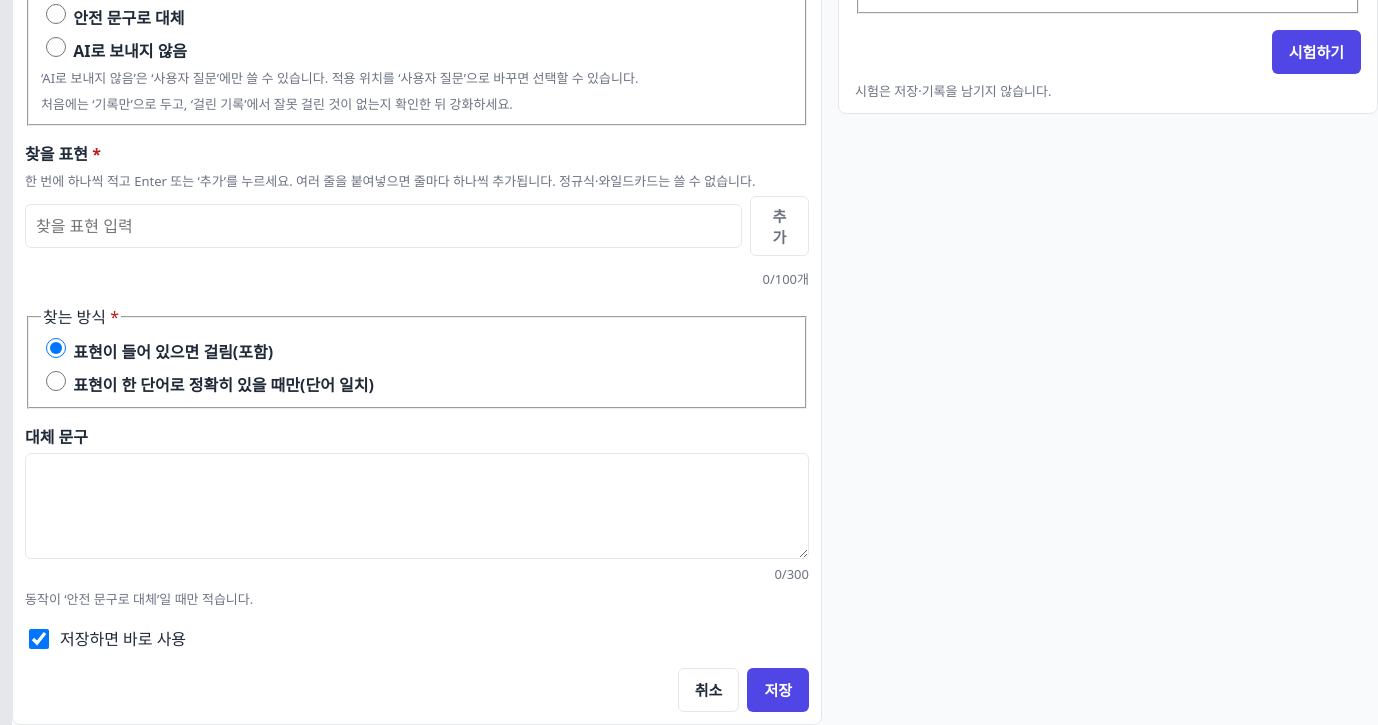
Test: 안전 가드레일 화면 — axe 접근성 스캔 › GR-2 규칙 폼(오류가 표시된 상태)에 구조적 접근성 위반이 없다
The image size is (1378, 725).
(page scrolled)
What coordinates should you click on to do the following:
click the button "저장"
I would click on:
 (778, 690)
Its box is [747,668,809,712].
(page scrolled)
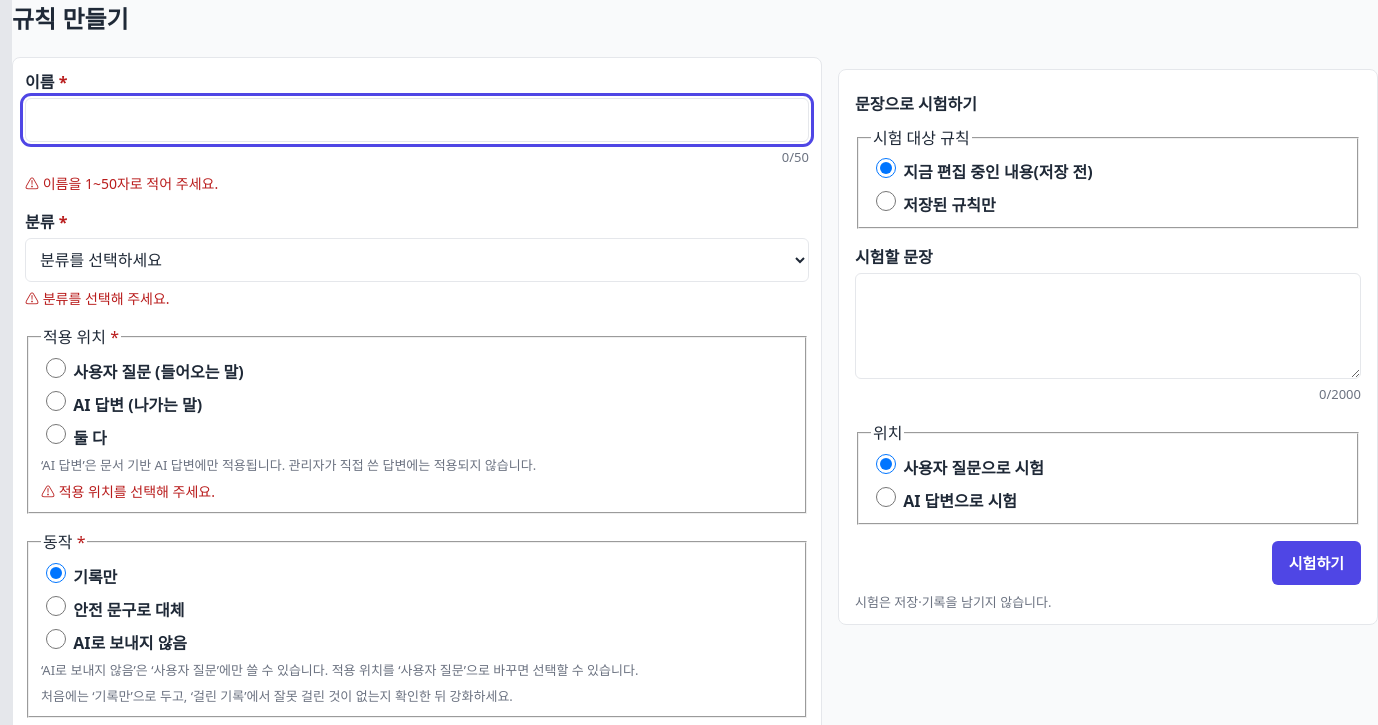
Now the text "이름을 1~50자로 적어 주세요." is shown, box [43,174,218,193]
